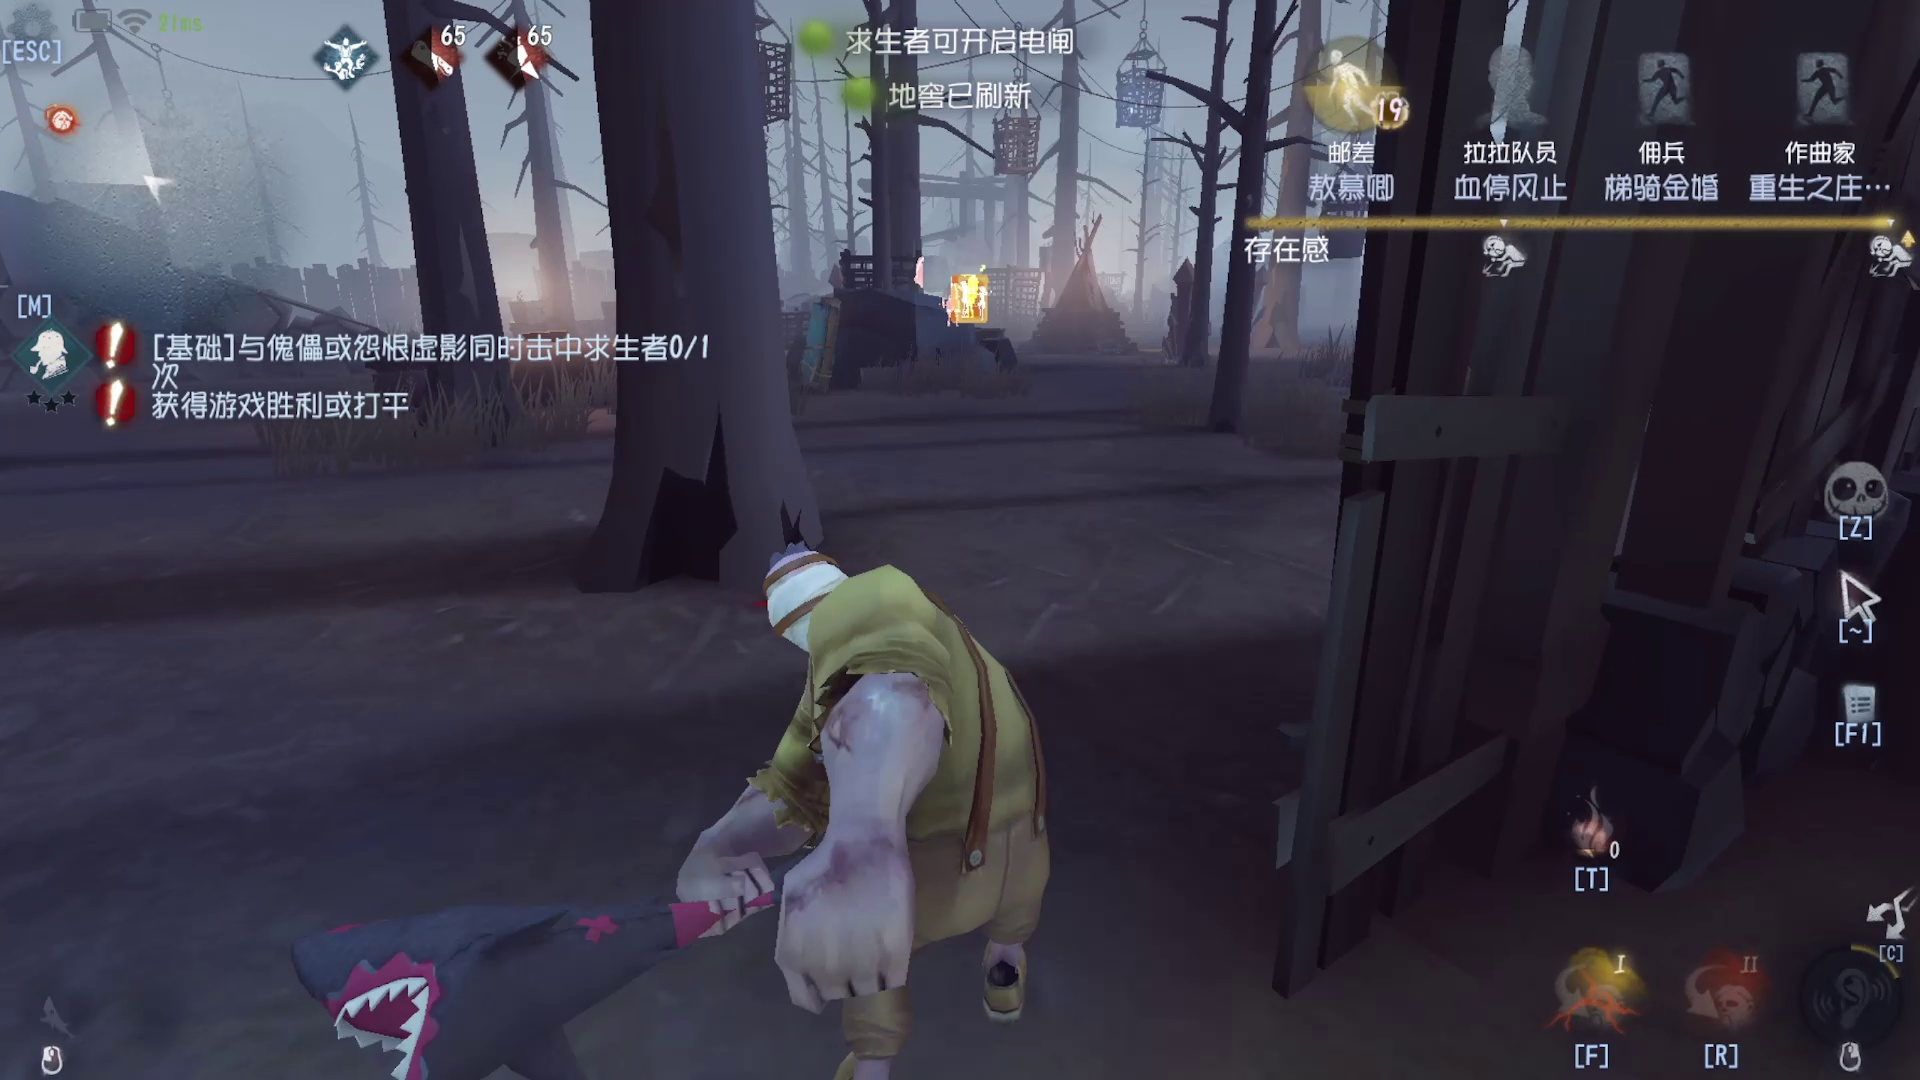木板: (794, 287, 861, 386)
狂欢之椅: (1149, 258, 1212, 363)
设置: (1, 1, 84, 79)
